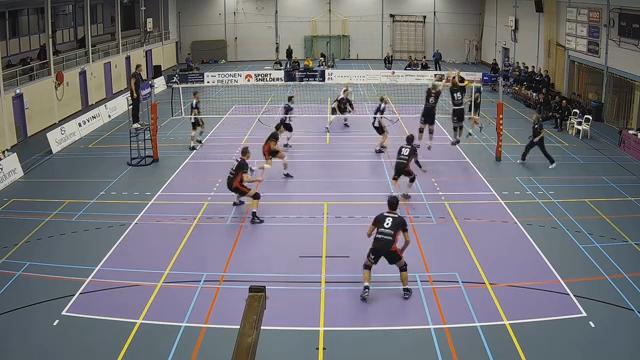attacco: (464, 72, 488, 138)
muro: (412, 71, 438, 152), (445, 70, 467, 147)
